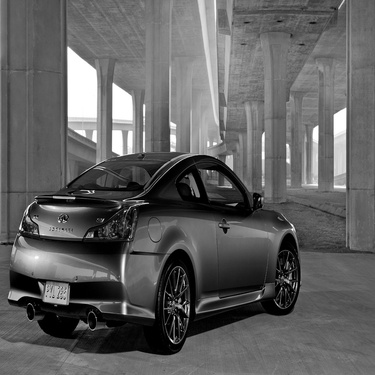car: (4, 137, 306, 362)
